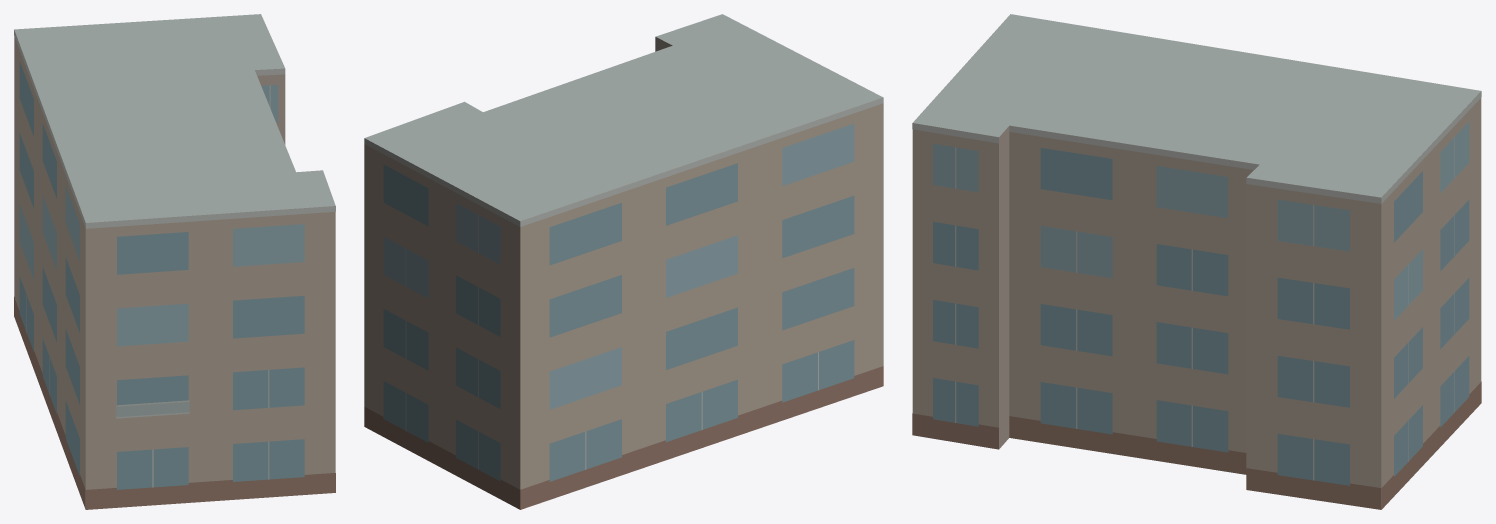
File: survey-upis-32928596.glb
3 views of the same model, side by side, from view 1: azimuth 30°, elevation 25°; view 2: azimuth 150°, elevation 25°; view 3: azimuth 270°, elevation 25° (orthographic). The views are drawn at different scales.
Parts seen in each view (by area): view 1: survey-upis-32928596.tmp; view 2: survey-upis-32928596.tmp; view 3: survey-upis-32928596.tmp.
Boxes of the visible parts, x1=… form: survey-upis-32928596.tmp: x1=14, y1=14, x2=335, y2=509; survey-upis-32928596.tmp: x1=364, y1=14, x2=883, y2=509; survey-upis-32928596.tmp: x1=912, y1=14, x2=1481, y2=509.
Size of the model in its own units: 15.28 by 12.11 by 20.01.
